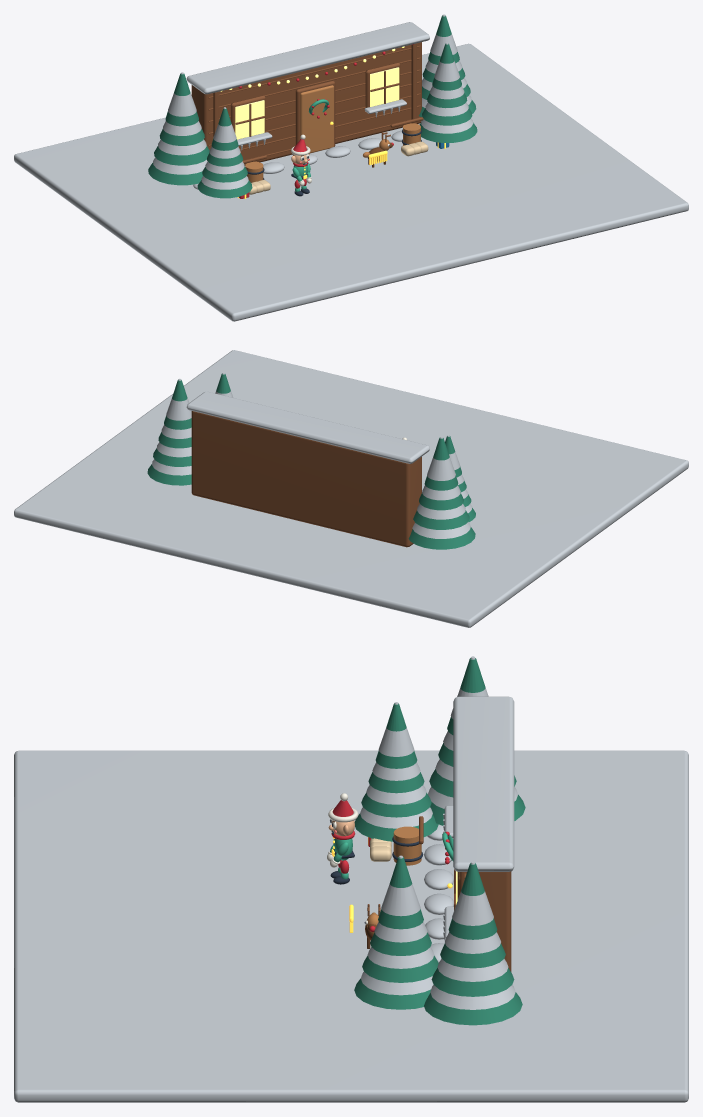
The model's file is chapter-11.glb.
The picture shows the model from 3 angles, top to bottom: view 1: azimuth 30°, elevation 25°; view 2: azimuth 150°, elevation 25°; view 3: azimuth 270°, elevation 25°; orthographic projection. The views are drawn at different scales.
Parts seen in each view (by area): view 1: Schneeboden, Werkstatt, Schneegesims, Wichteltür, Warmes Fenster, Warmes Fenster.001, Tannenzweig.008, Tannenzweig.009, Türrahmen, Tannenzweig.011, Tannenzweig.004, Schnee.011 (+6 smaller); view 2: Schneeboden, Werkstatt, Schneegesims, Tannenzweig.008, Tannenzweig.009, Tannenzweig.011, Schnee.008, Schnee.011, Tannenzweig.015, Tannenzweig.012, Tannenzweig.010, Schnee.009 (+1 smaller); view 3: Schneeboden, Schneegesims, Werkstatt, Tannenzweig.012, Tannenzweig.013, Tannenzweig.015, Schnee.012, Tannenzweig.005, Tannenzweig.004, Schnee.015, Tannenzweig.007, Schnee.013 (+16 smaller).
Part boxes in pixels (bbox=[...]): Schneeboden: bbox=[14, 43, 688, 321]; Werkstatt: bbox=[191, 42, 421, 165]; Schneegesims: bbox=[186, 22, 429, 94]; Wichteltür: bbox=[300, 85, 333, 153]; Warmes Fenster: bbox=[235, 100, 264, 139]; Warmes Fenster.001: bbox=[370, 67, 399, 106]; Tannenzweig.008: bbox=[148, 163, 202, 185]; Tannenzweig.009: bbox=[154, 146, 209, 165]; Türrahmen: bbox=[295, 81, 335, 146]; Tannenzweig.011: bbox=[165, 73, 198, 126]; Tannenzweig.004: bbox=[419, 122, 477, 142]; Schnee.011: bbox=[168, 72, 196, 116]; Schneeboden: bbox=[14, 350, 688, 627]; Werkstatt: bbox=[191, 411, 421, 547]; Schneegesims: bbox=[186, 391, 429, 463]; Tannenzweig.008: bbox=[408, 527, 475, 549]; Tannenzweig.009: bbox=[413, 510, 469, 529]; Tannenzweig.011: bbox=[424, 437, 458, 490]; Schnee.008: bbox=[412, 522, 470, 538]; Schnee.011: bbox=[427, 436, 455, 480]; Tannenzweig.015: bbox=[164, 380, 191, 429]; Tannenzweig.012: bbox=[147, 464, 191, 485]; Tannenzweig.010: bbox=[419, 493, 463, 510]; Schnee.009: bbox=[417, 504, 465, 519]; Schneeboden: bbox=[14, 750, 688, 1102]; Schneegesims: bbox=[453, 696, 514, 871]; Werkstatt: bbox=[466, 871, 511, 971]; Tannenzweig.012: bbox=[424, 992, 522, 1025]; Tannenzweig.013: bbox=[431, 968, 514, 996]; Tannenzweig.015: bbox=[448, 863, 497, 939]; Schnee.012: bbox=[430, 985, 515, 1009]; Tannenzweig.005: bbox=[362, 955, 438, 982]; Tannenzweig.004: bbox=[354, 978, 430, 1009]; Schnee.015: bbox=[452, 861, 493, 925]; Tannenzweig.007: bbox=[378, 857, 423, 929]; Schnee.013: bbox=[437, 959, 508, 981].
Size of the model in its own units: 18 by 4.39 by 15.
